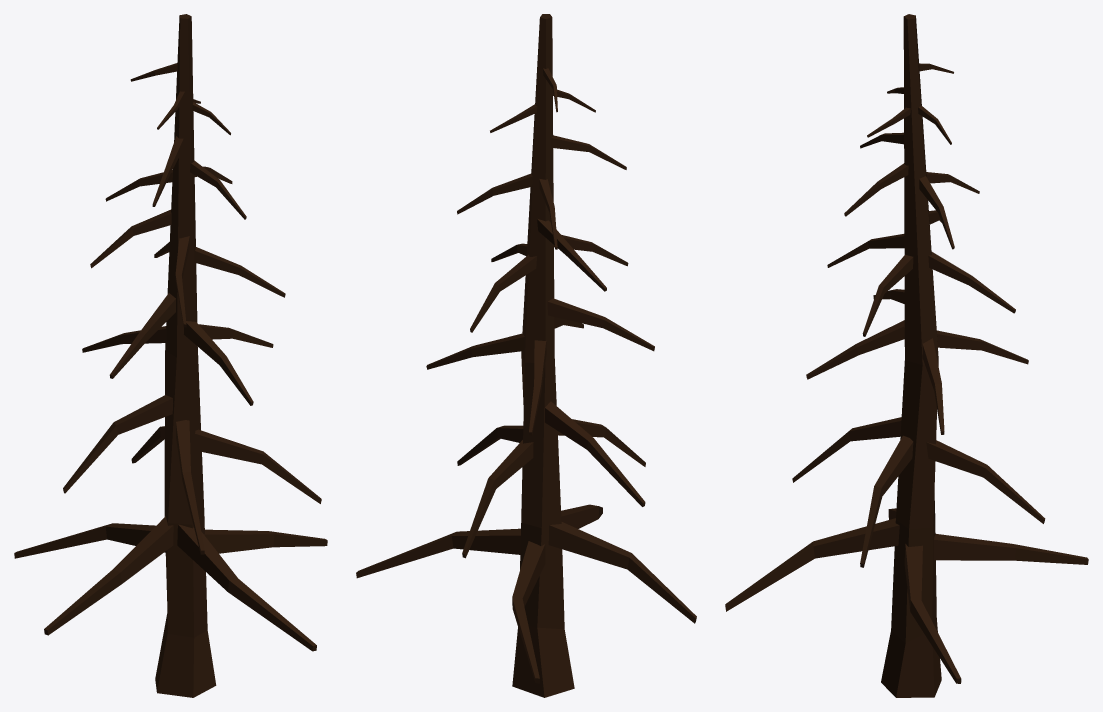
File: Tree_Dead_1.fbx
3 renders of one model, left to right at view 1: azimuth 30°, elevation 25°; view 2: azimuth 150°, elevation 25°; view 3: azimuth 270°, elevation 25°, orthographic.
Visible parts, largest first — view 1: DeadSpruce1; view 2: DeadSpruce1; view 3: DeadSpruce1.
Boxes of the visible parts, box(x1,y1,x2,y2) form: DeadSpruce1: box(14, 14, 327, 697); DeadSpruce1: box(356, 14, 696, 697); DeadSpruce1: box(725, 14, 1088, 697).
Size of the model in its own units: 140 by 289 by 142.
